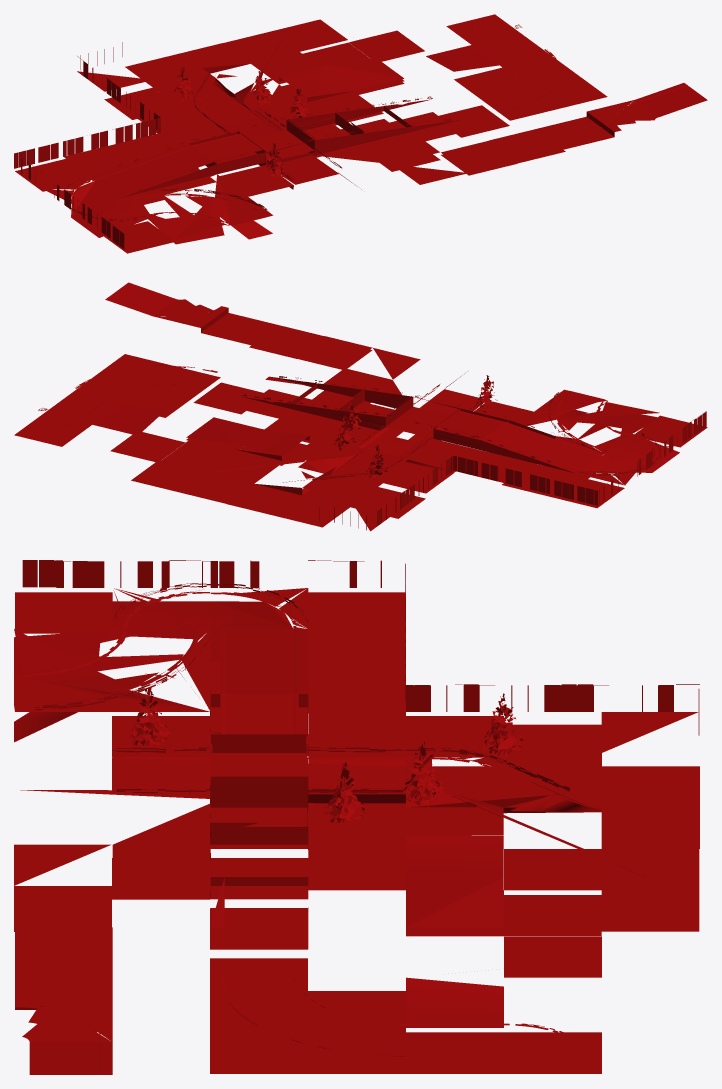
3 views of the same model, one above another, from view 1: azimuth 30°, elevation 25°; view 2: azimuth 150°, elevation 25°; view 3: azimuth 270°, elevation 25° (orthographic). The views are drawn at different scales.
Visible parts, largest first — view 1: map2.004; view 2: map2.004; view 3: map2.004.
Part boxes in pixels (bbox=[...]): map2.004: bbox=[14, 14, 707, 253]; map2.004: bbox=[14, 282, 707, 531]; map2.004: bbox=[14, 560, 699, 1074].
Size of the model in its own units: 777 by 73.16 by 459.
